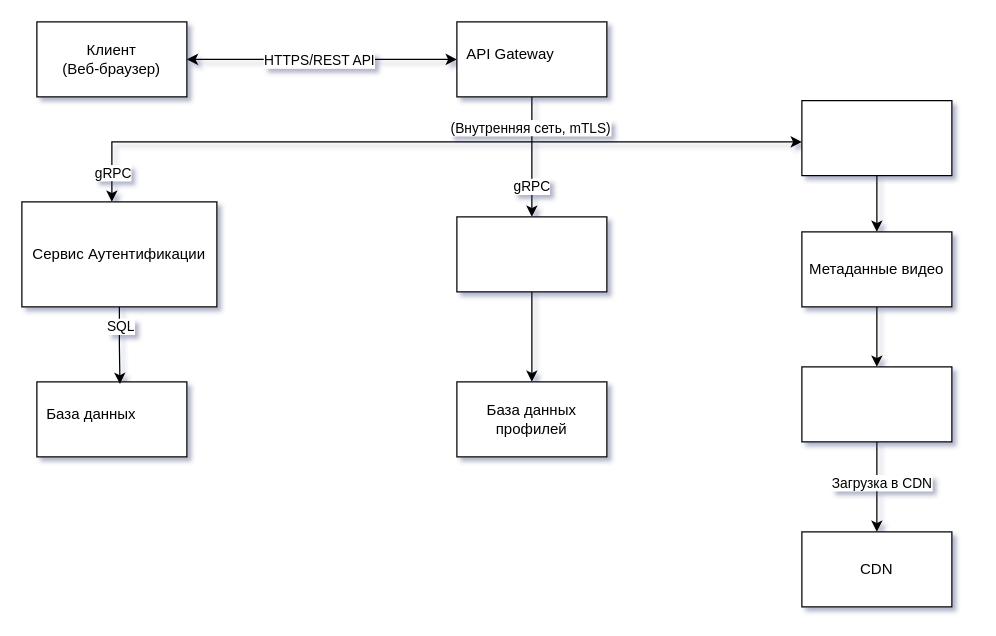
Image size: 996x636. Some labels were removed from this diagram. The shapes that lost their labels are listed below. From the top down, each one's centre as x and y in pixels, then its label:
At point (876, 137): "Сервис Видео".
At point (531, 254): "Сервис Профилей".
At point (876, 404): "Хранилище видео".
